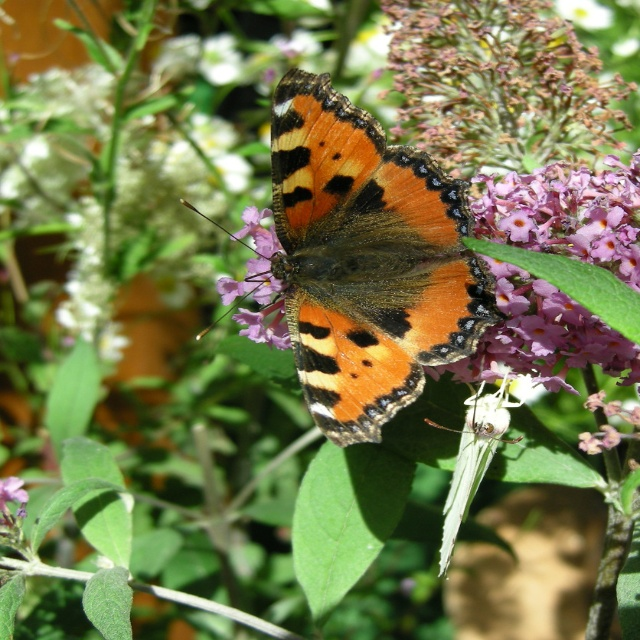Butterfly: (181, 62, 508, 448)
